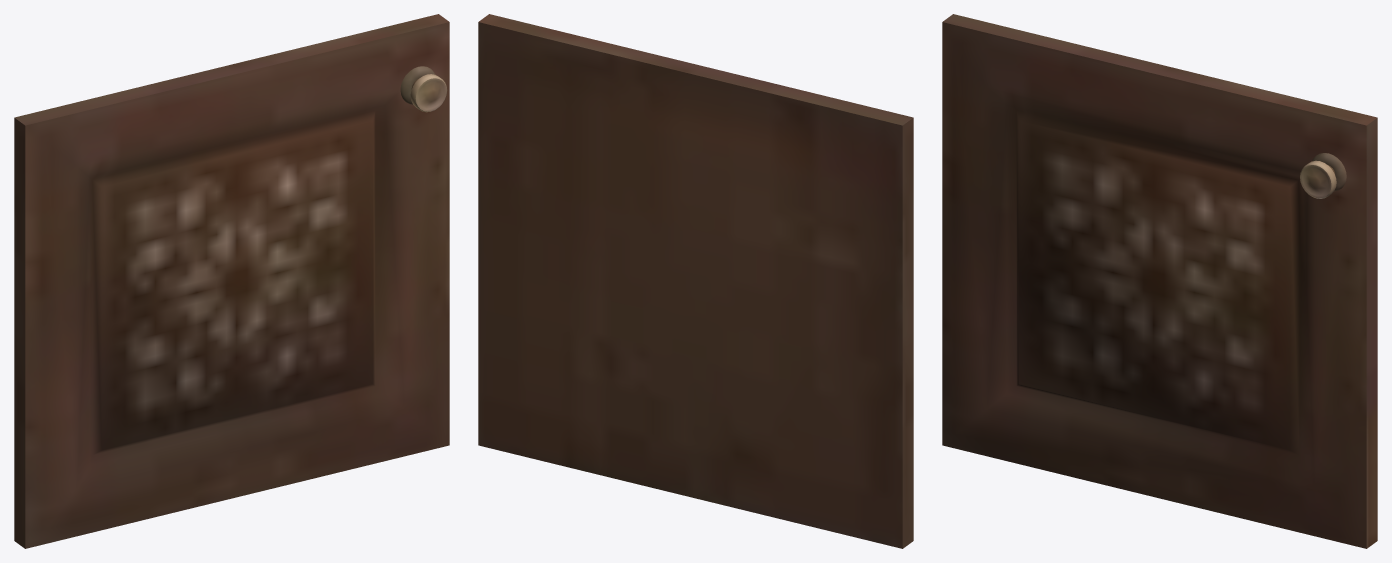
Rendered from SM_BookShelfPart03_da517b.glb.
3 renders of one model, left to right at view 1: azimuth 30°, elevation 25°; view 2: azimuth 150°, elevation 25°; view 3: azimuth 330°, elevation 25°, orthographic.
Size of the model in its own units: 0.705 by 0.672 by 0.0809.
1 material, 1 textured.
